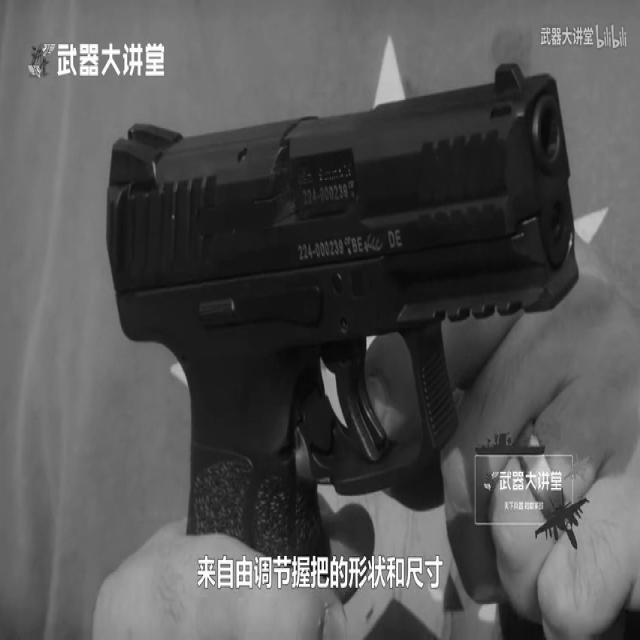Hand-Gun: (90, 7, 610, 640)
